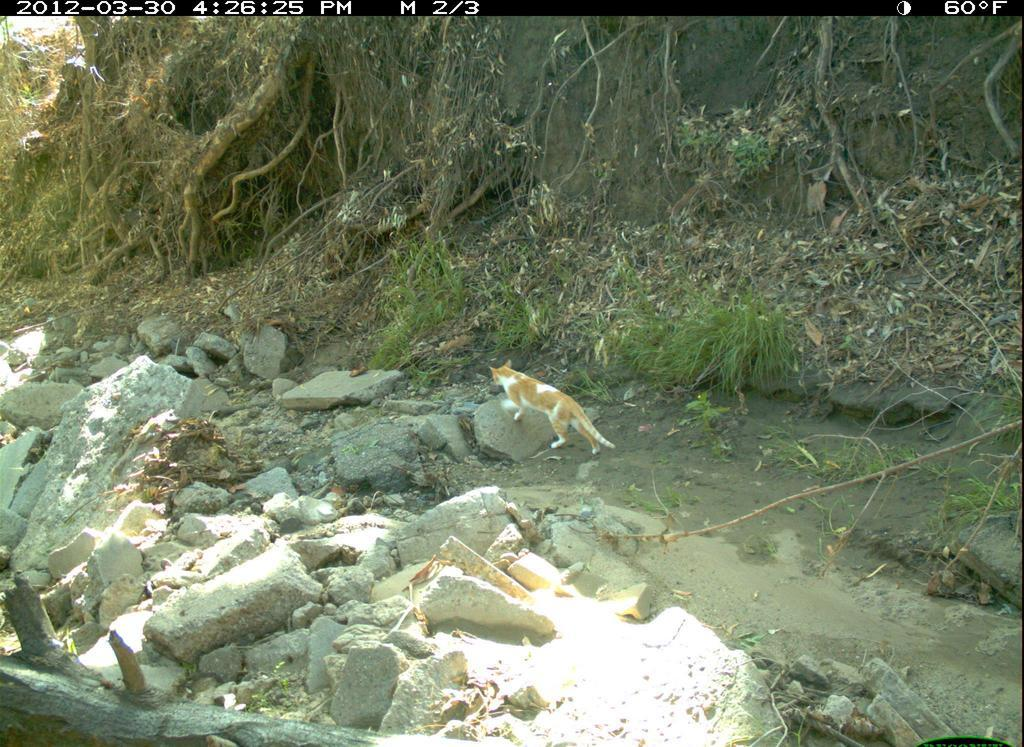cat: (482, 351, 625, 475)
